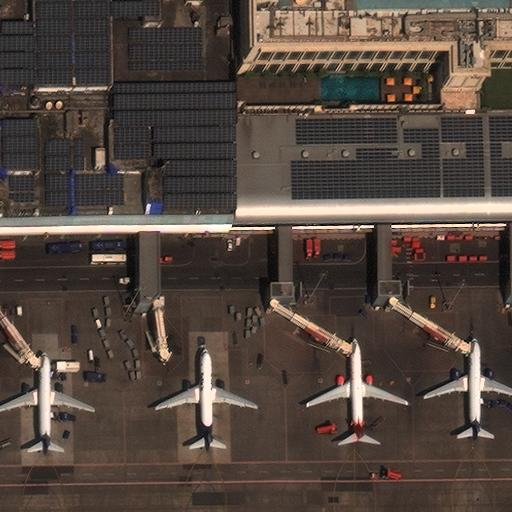Medium Civil Transport: (155, 349, 257, 451), (306, 339, 408, 441), (0, 353, 94, 449), (423, 339, 511, 438)
